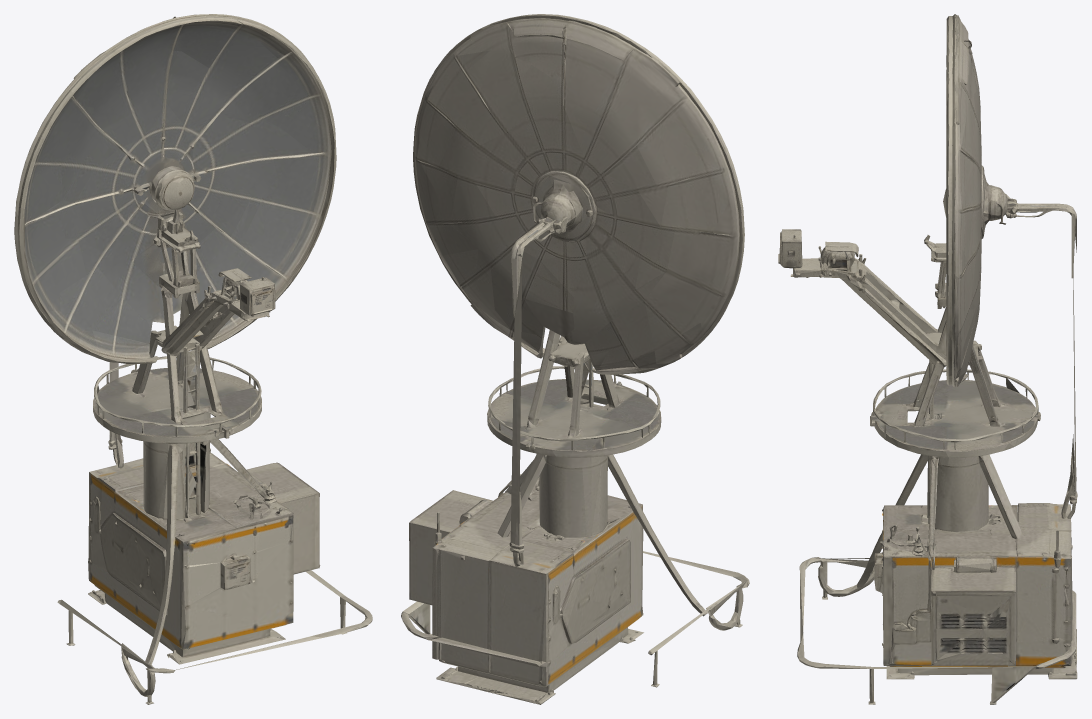
The model's file is web.glb.
The picture shows the model from 3 angles, left to right: view 1: azimuth 30°, elevation 25°; view 2: azimuth 150°, elevation 25°; view 3: azimuth 270°, elevation 25°; orthographic projection. The views are drawn at different scales.
Parts seen in each view (by area): view 1: output_unwrapped; view 2: output_unwrapped; view 3: output_unwrapped.
Boxes of the visible parts, bbox=[...] form: output_unwrapped: bbox=[14, 14, 372, 704]; output_unwrapped: bbox=[401, 14, 749, 704]; output_unwrapped: bbox=[778, 14, 1077, 704].
Bounding box in the file's own units: 1.04 × 1.9 × 0.8448.
Materials: 1 (1 with a texture image).
